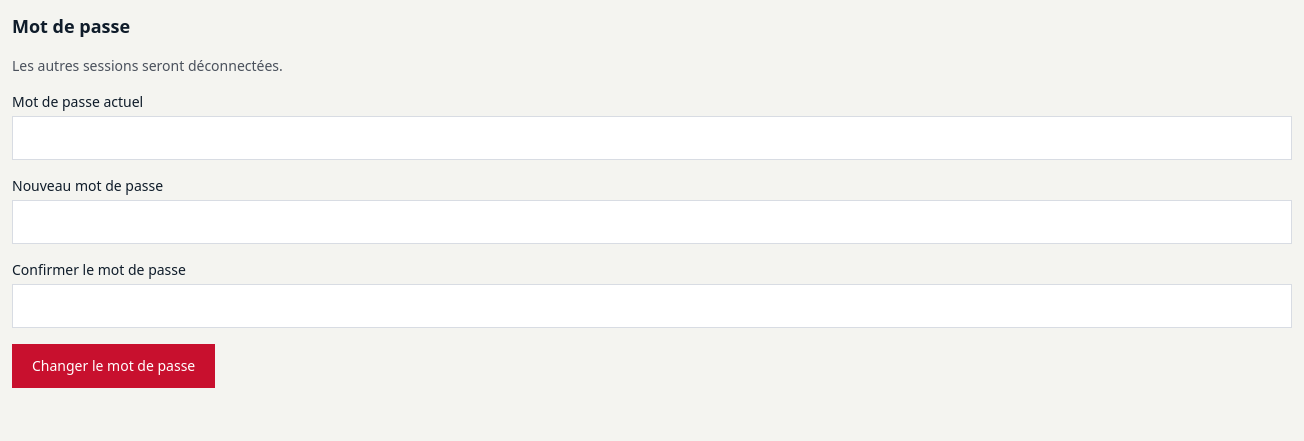
it: ChangePasswordForm › rejects a confirmation mismatch
Type "old-password" into the password field labelled "Mot de passe actuel" at coordinates (652, 138), box [12,116,1292,160]
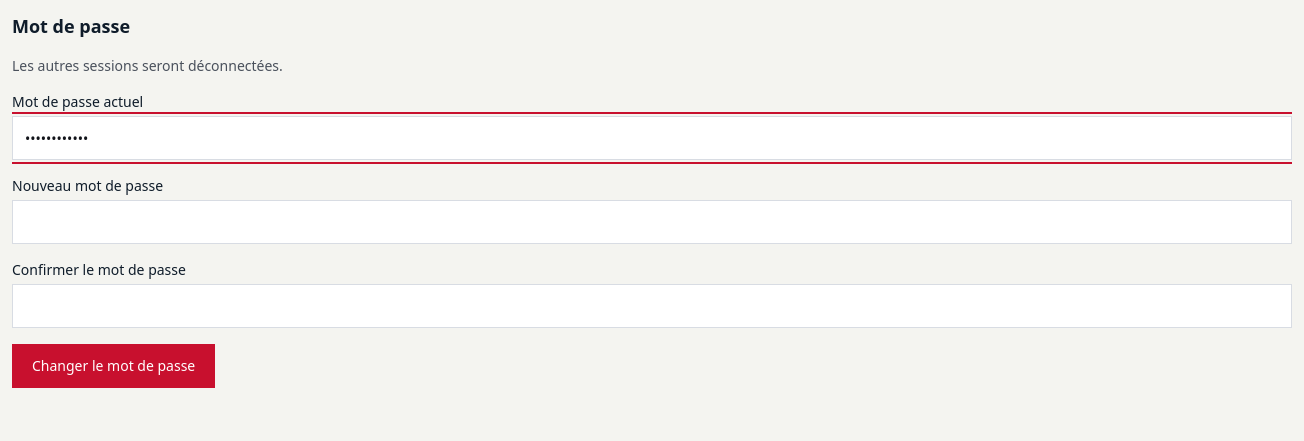
Type "new-password" into the password field labelled "Nouveau mot de passe" at coordinates (652, 222), box [12,200,1292,244]
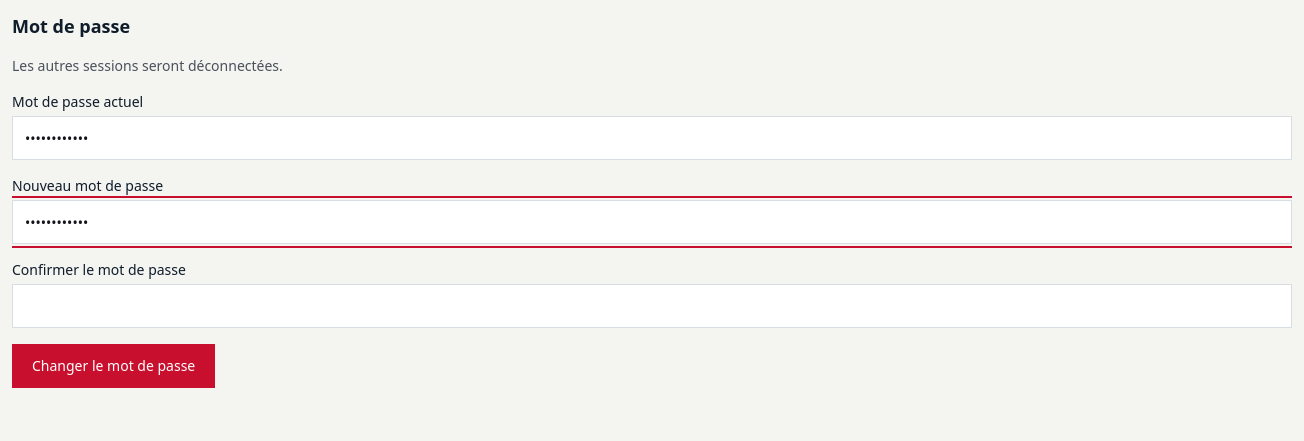
Type "other-password" into the password field labelled "Confirmer le mot de passe" at coordinates (652, 306), box [12,284,1292,328]
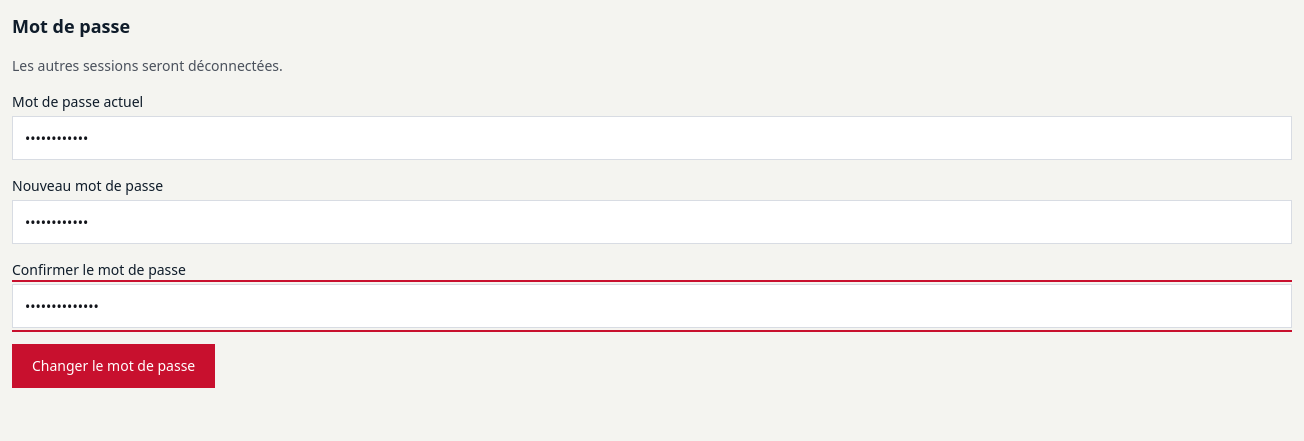
Submit the form "Mot de passe"
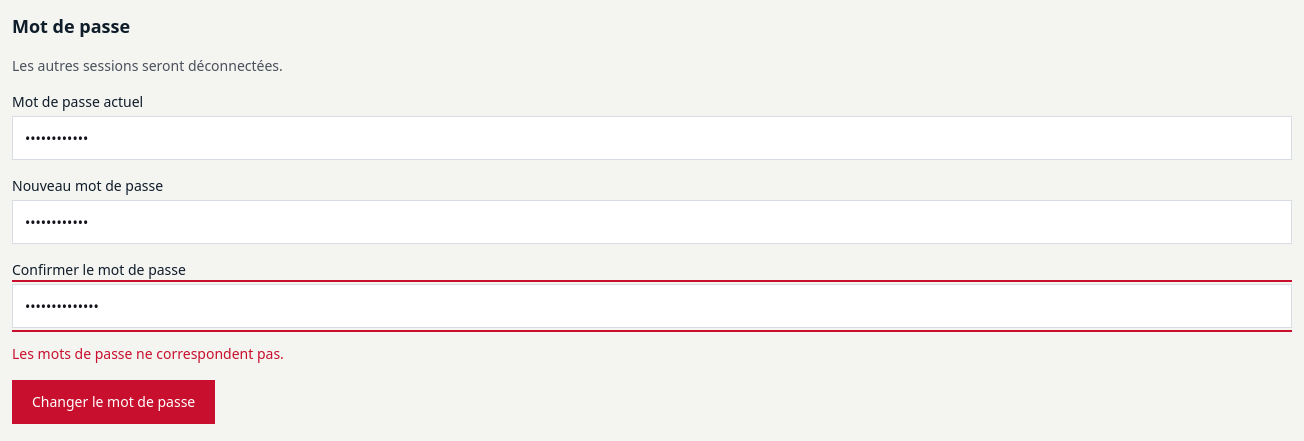
Result: the message reads "Les mots de passe ne correspondent pas." at [12,344,284,363]
